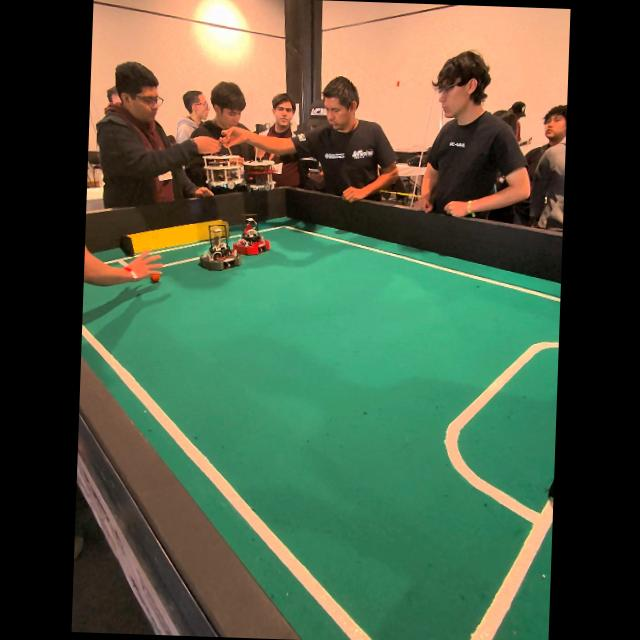ball: (149, 274, 158, 282)
goal: (119, 219, 227, 255)
robot: (198, 224, 240, 270), (231, 212, 270, 257)
